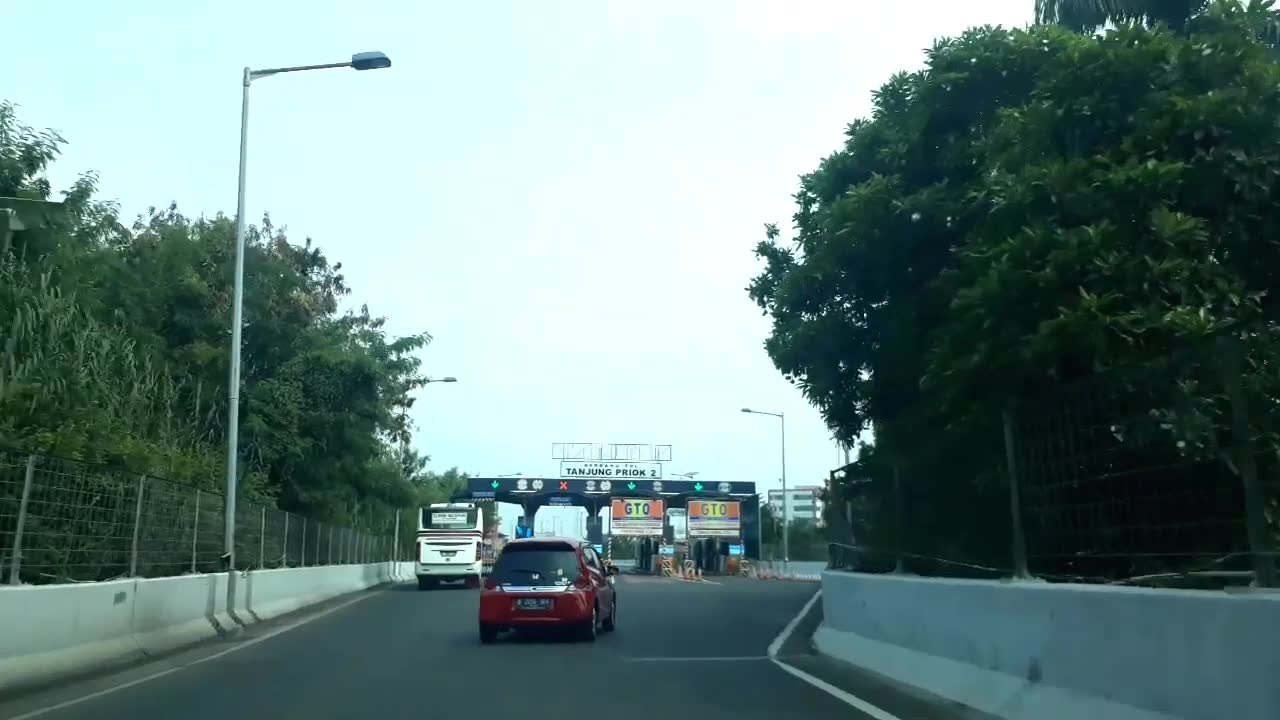plate_positive: (516, 598, 551, 610)
